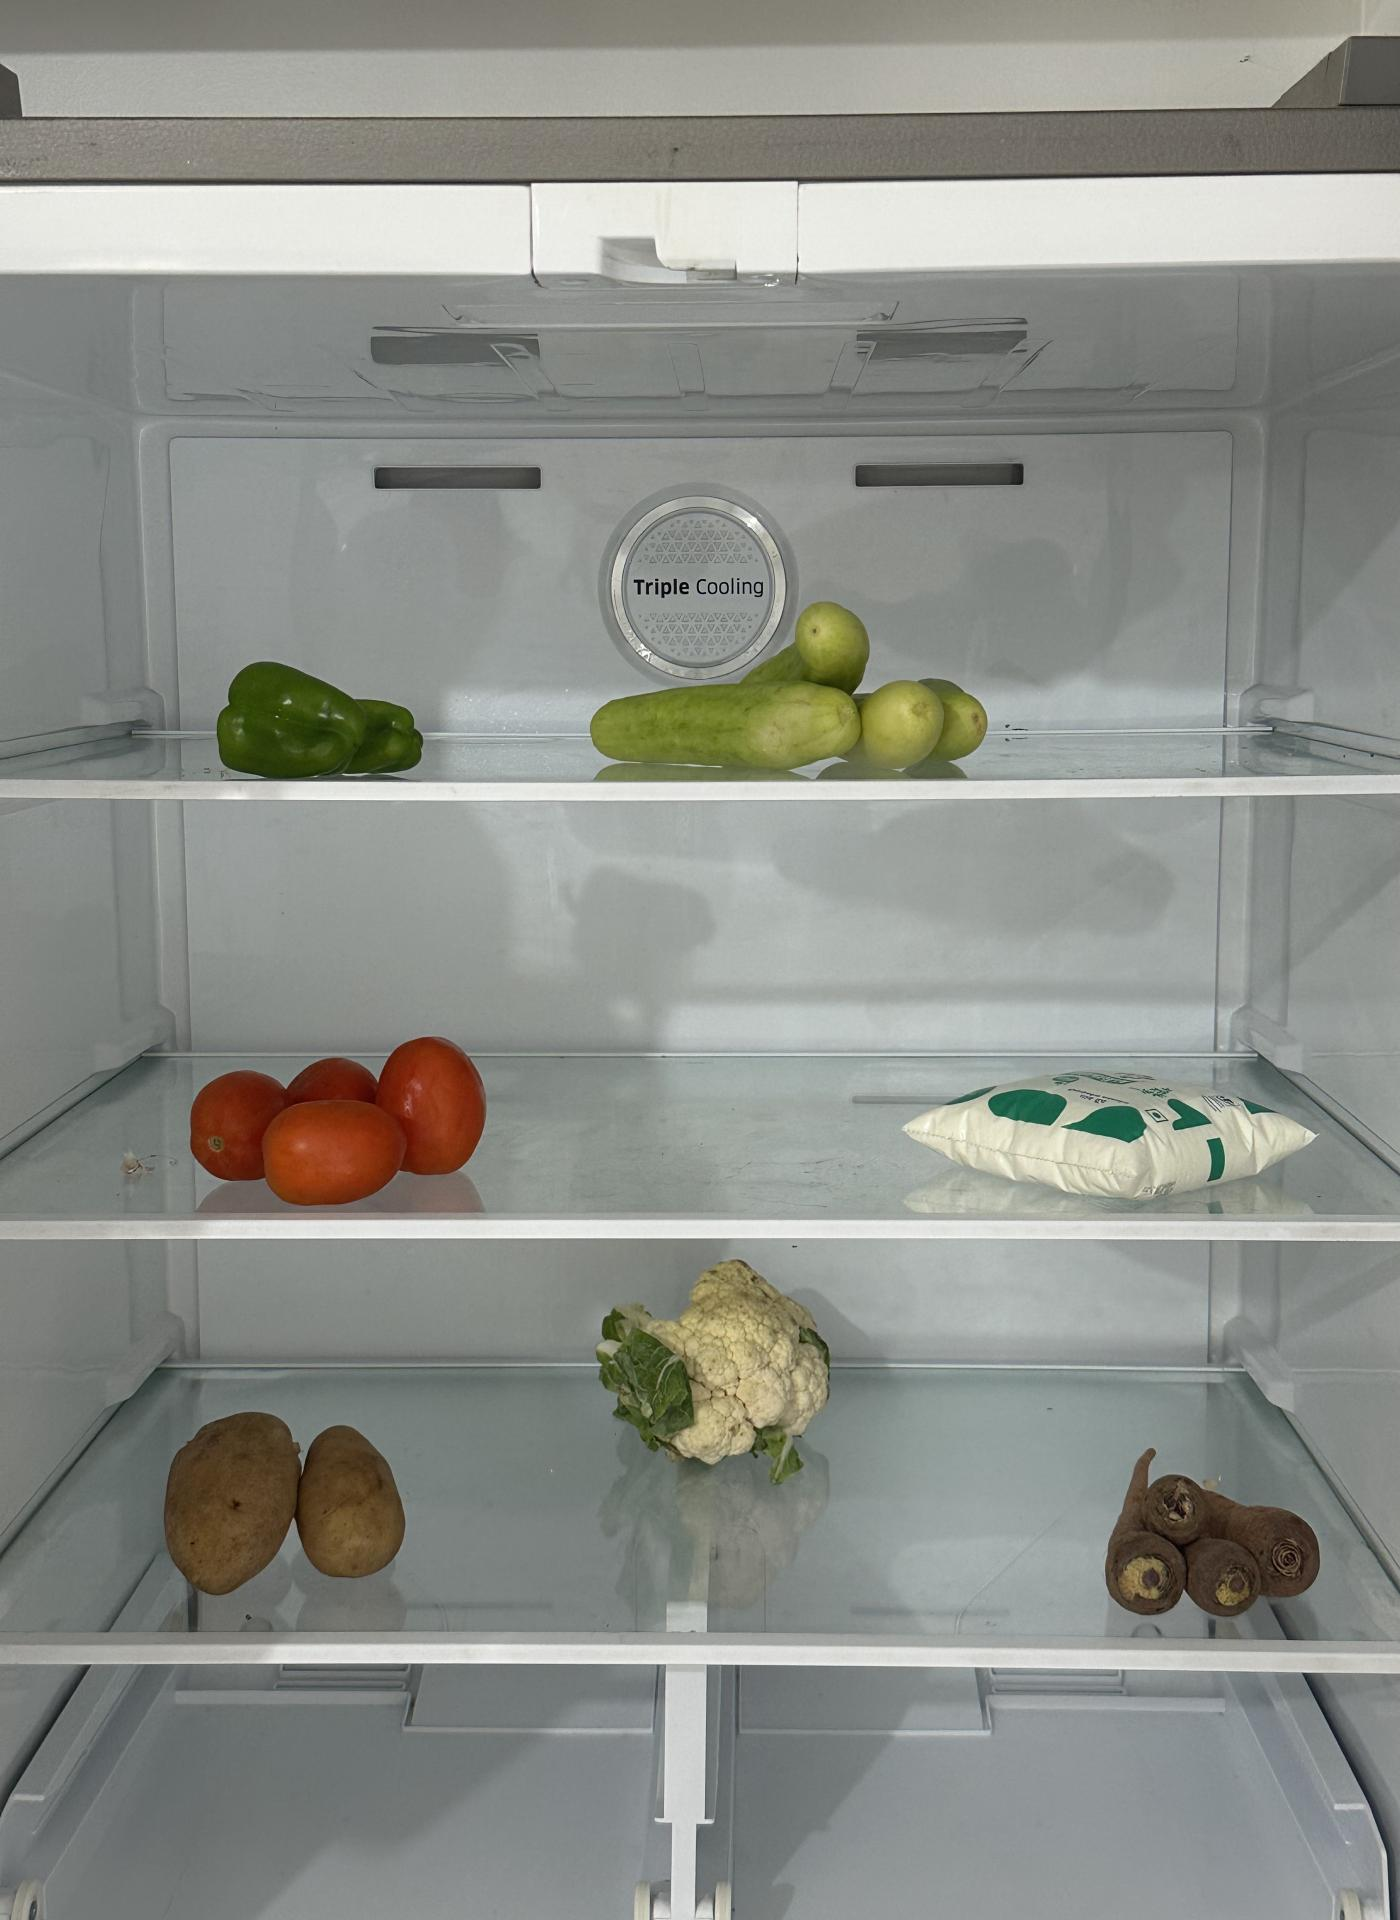capsicum: (218, 660, 428, 781)
carrots: (1102, 1446, 1322, 1623)
cauliflower: (602, 1261, 833, 1468)
cucumber: (586, 605, 991, 769)
milk: (902, 1061, 1314, 1194)
potato: (161, 1406, 404, 1600)
tomato: (185, 1026, 488, 1207)
